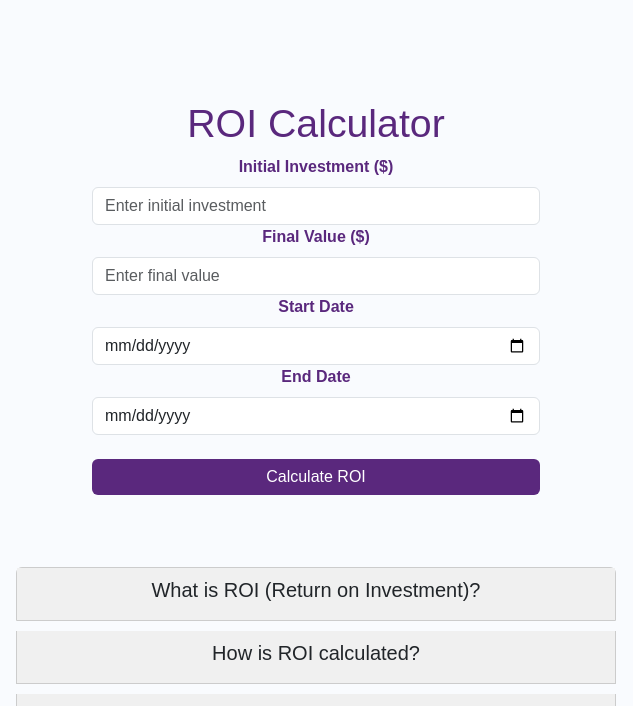
Test: can calculate ROI
The width and height of the screenshot is (633, 706).
Type "1000" into the number field with placeholder "Enter initial investment".
click(316, 206); type("1000")  # box [92,187,540,225]
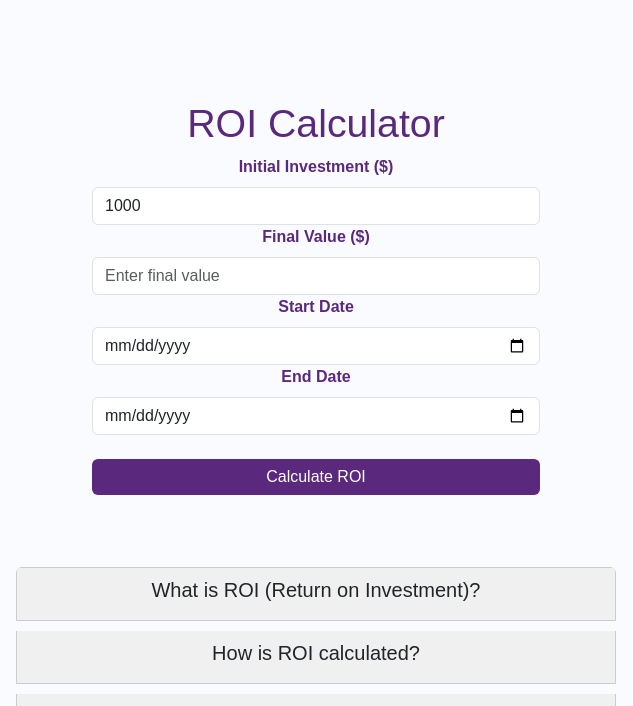
Type "1500" into the number field with placeholder "Enter final value".
click(316, 276); type("1500")  # box [92,257,540,295]
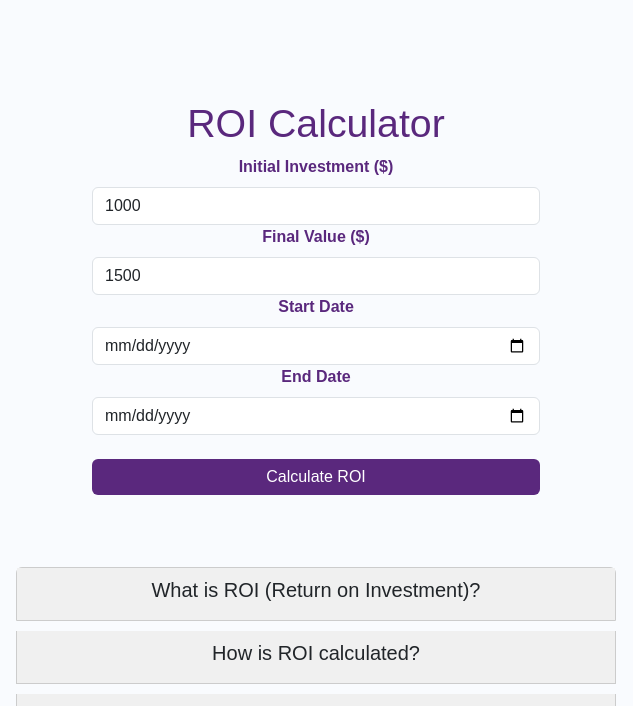
Type "2023-01-01" into the date field labelled "Start Date".
click(316, 346); type("2023-01-01")  # box [92,327,540,365]
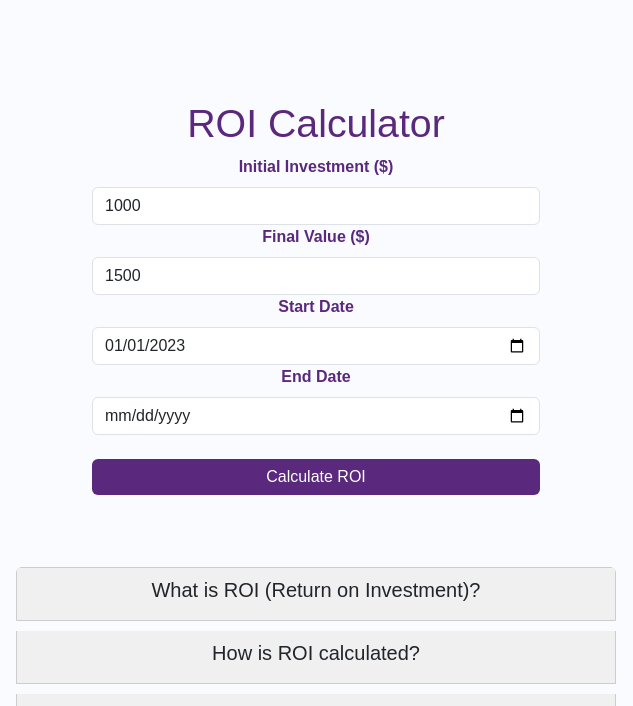
Type "2023-12-31" into the date field labelled "End Date".
click(316, 416); type("2023-12-31")  # box [92,397,540,435]
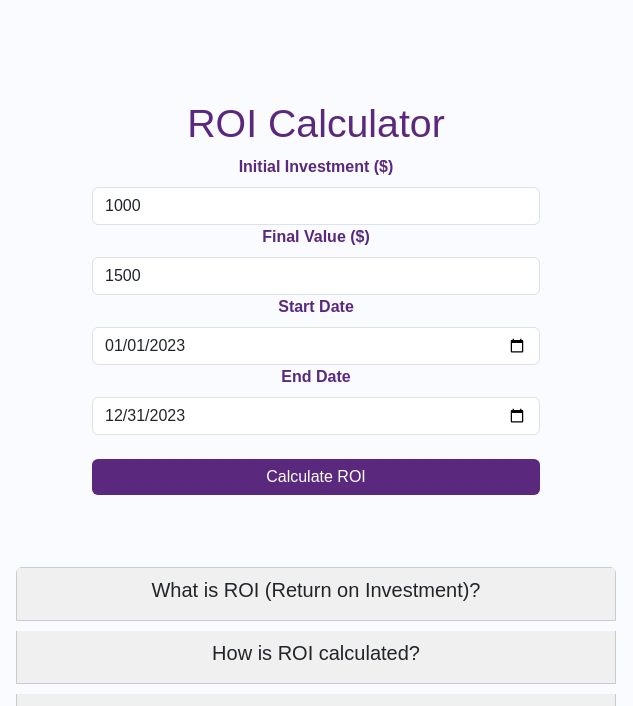
Click the button "Calculate ROI".
click(316, 477)  # box [92,459,540,495]
(page scrolled)
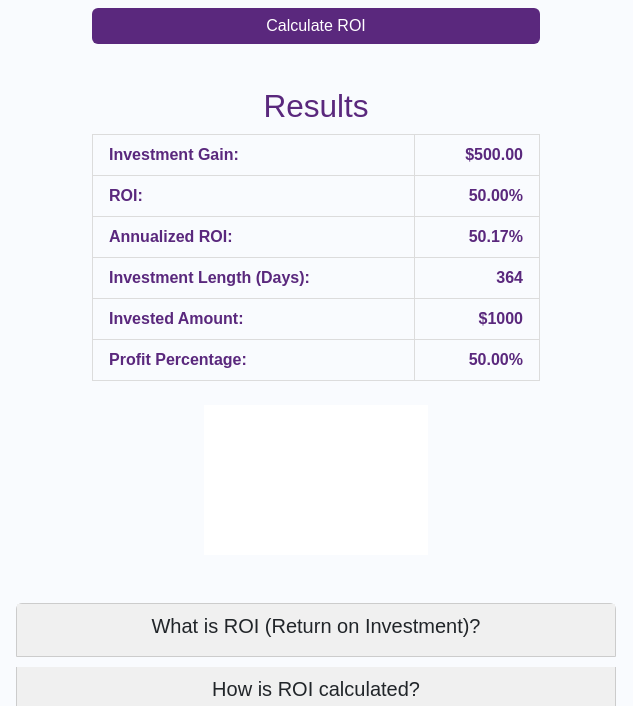
Result: the text "Investment Gain:" is shown at [92,134,414,176]
Result: the text "ROI:" is shown at [92,176,414,216]
Result: the text "Annualized ROI:" is shown at [92,216,414,258]
